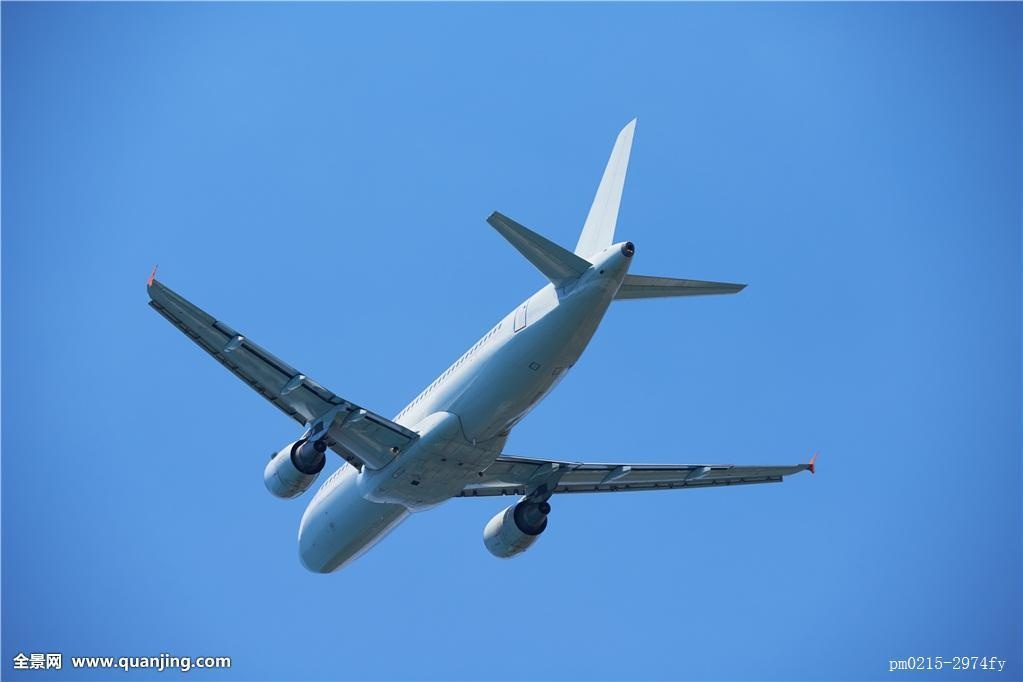airplane: (129, 115, 821, 575)
